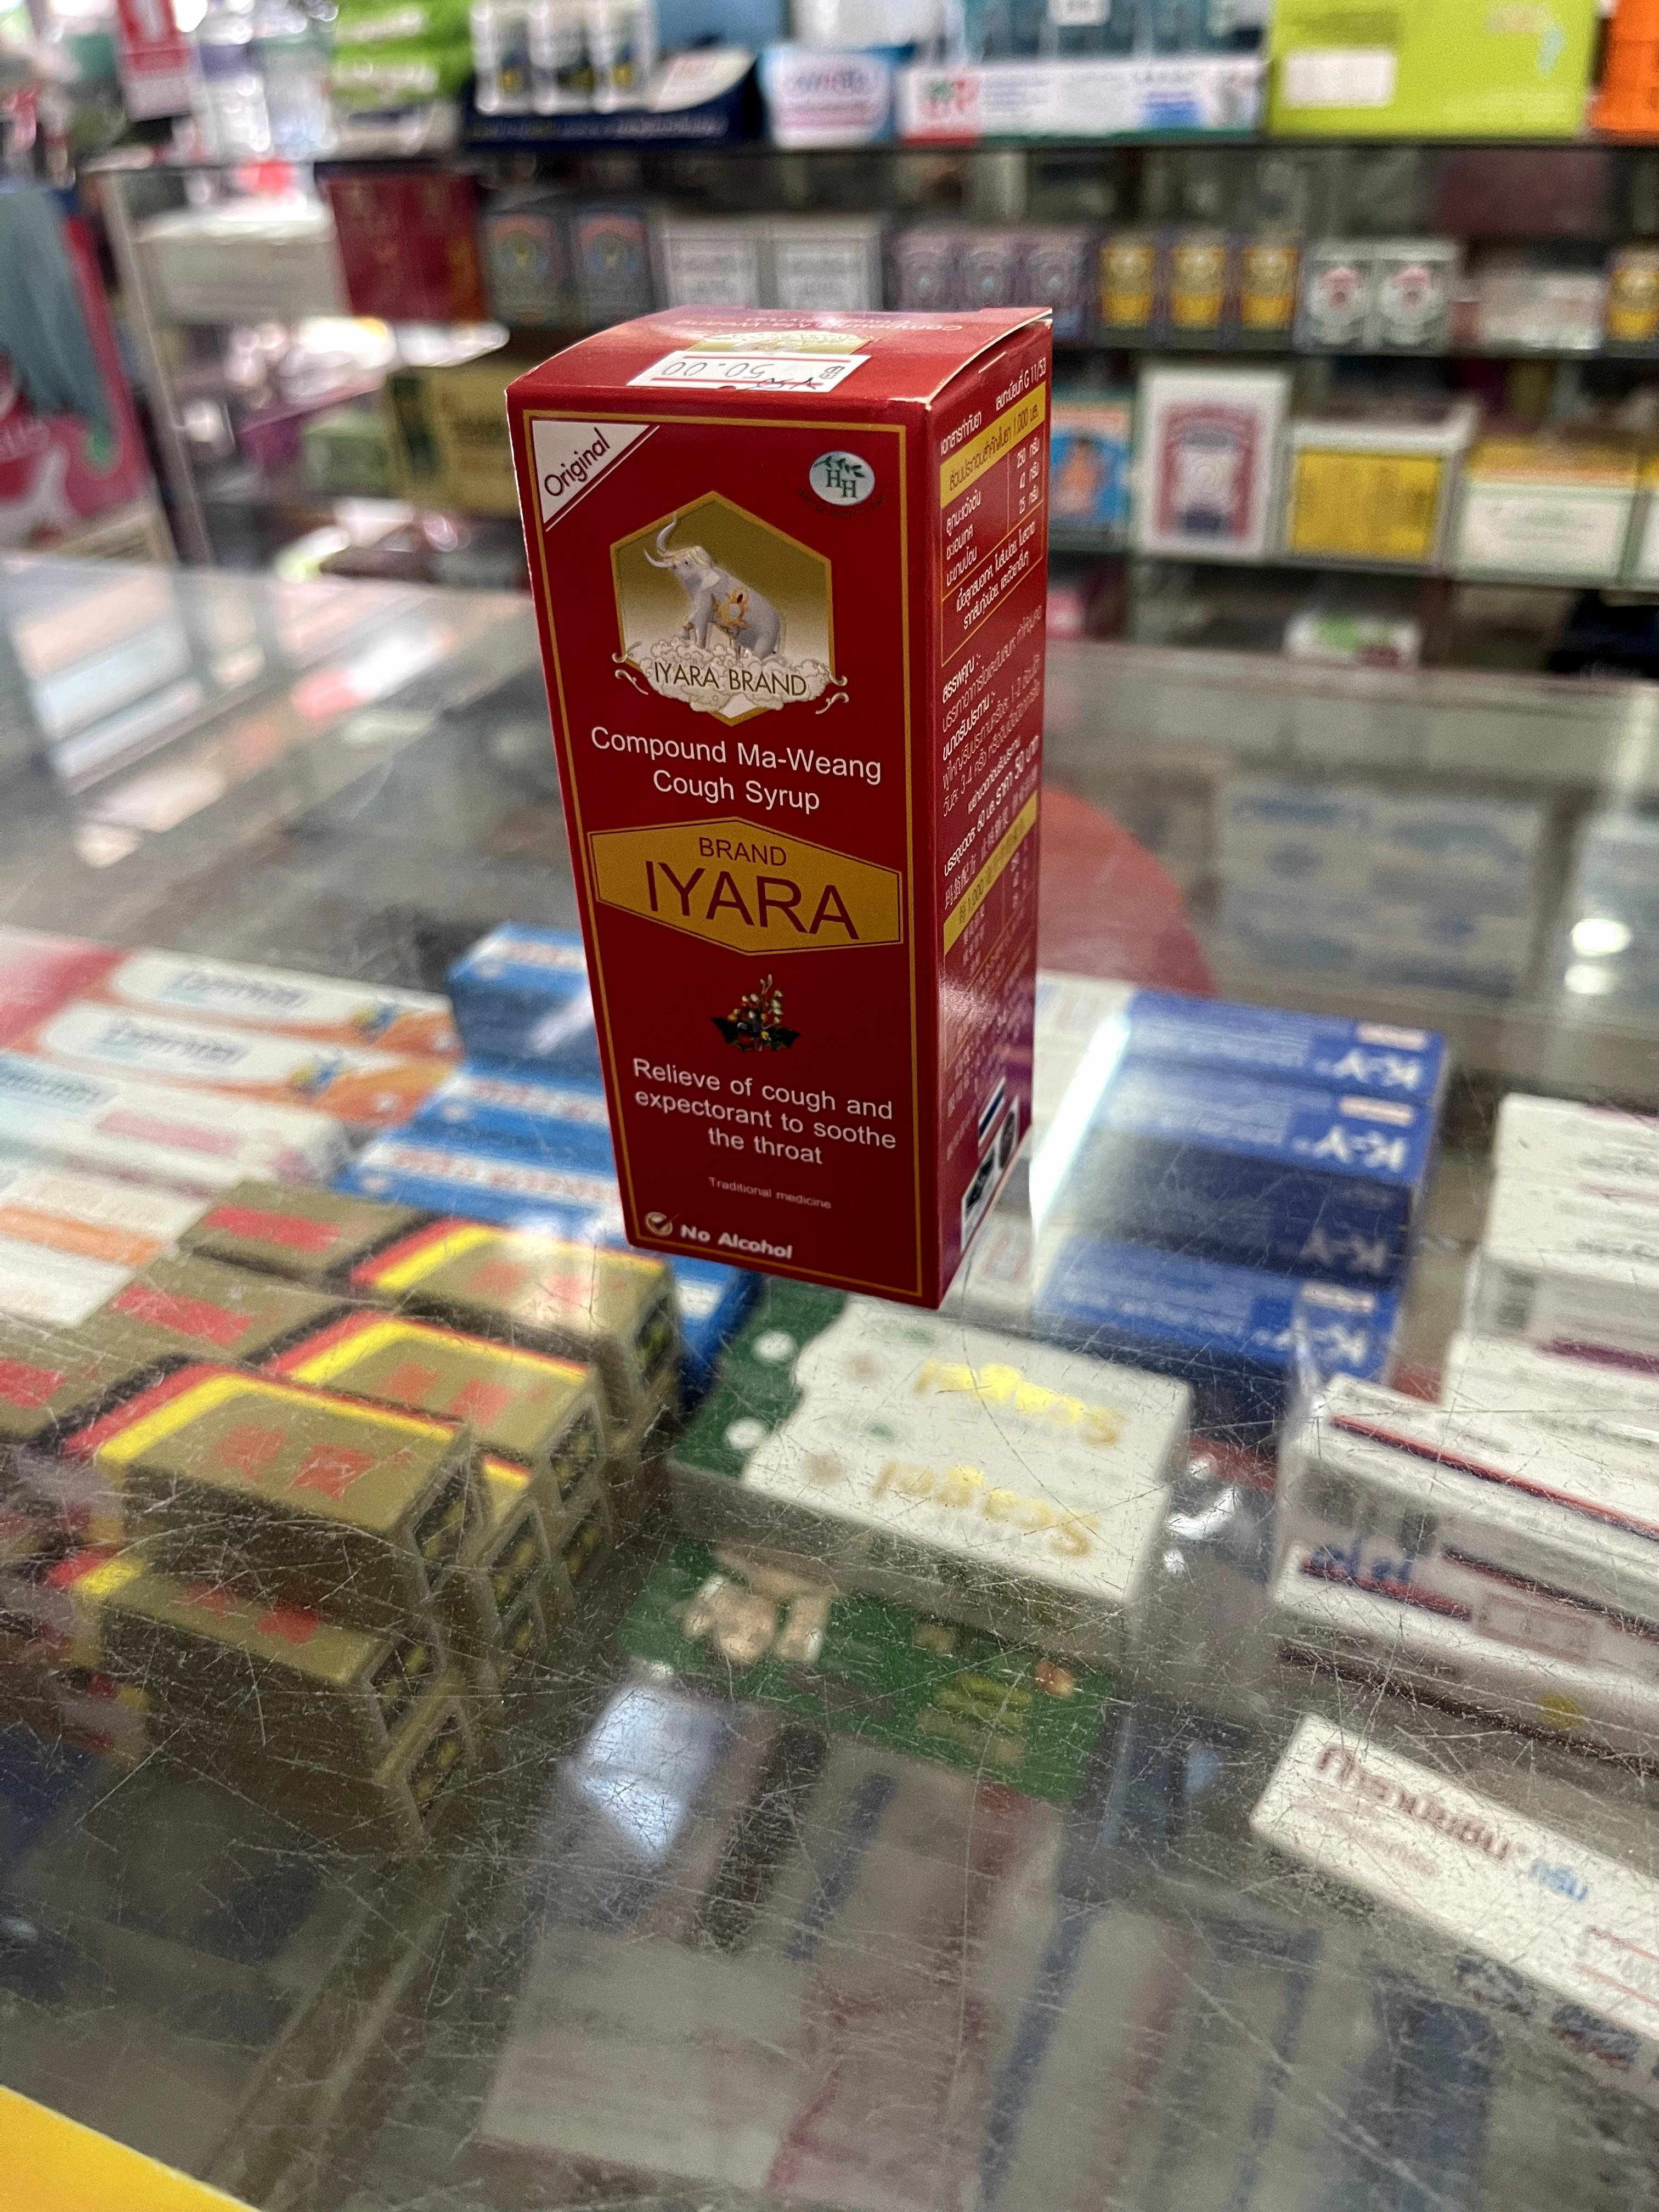Iyara: (519, 307, 1053, 1308)
